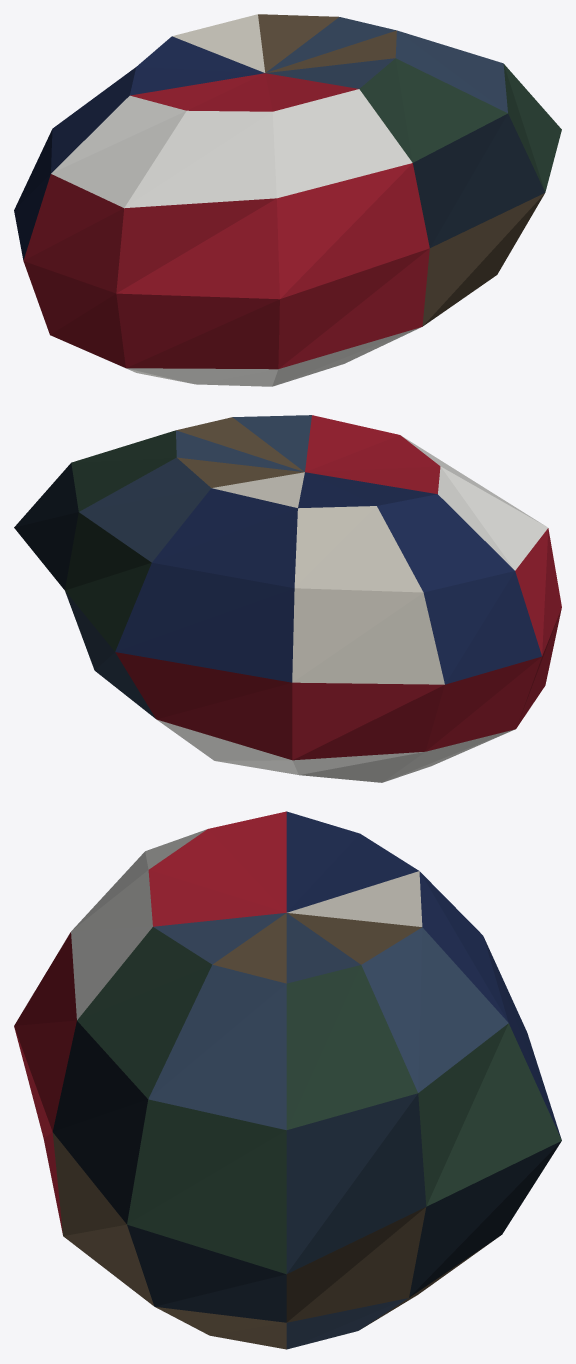
The model's file is freedomrock.glb.
The picture shows the model from 3 angles, top to bottom: view 1: azimuth 30°, elevation 25°; view 2: azimuth 150°, elevation 25°; view 3: azimuth 270°, elevation 25°; orthographic projection. The views are drawn at different scales.
Parts seen in each view (by area): view 1: freedomrock_lod0; view 2: freedomrock_lod0; view 3: freedomrock_lod0.
Part boxes in pixels (left/top/right/bottom): freedomrock_lod0: left=14, top=14, right=561, bottom=386; freedomrock_lod0: left=14, top=415, right=561, bottom=782; freedomrock_lod0: left=14, top=811, right=561, bottom=1349.
Size of what is drawn, in the model's own units: 3.24 by 1.73 by 2.16.
